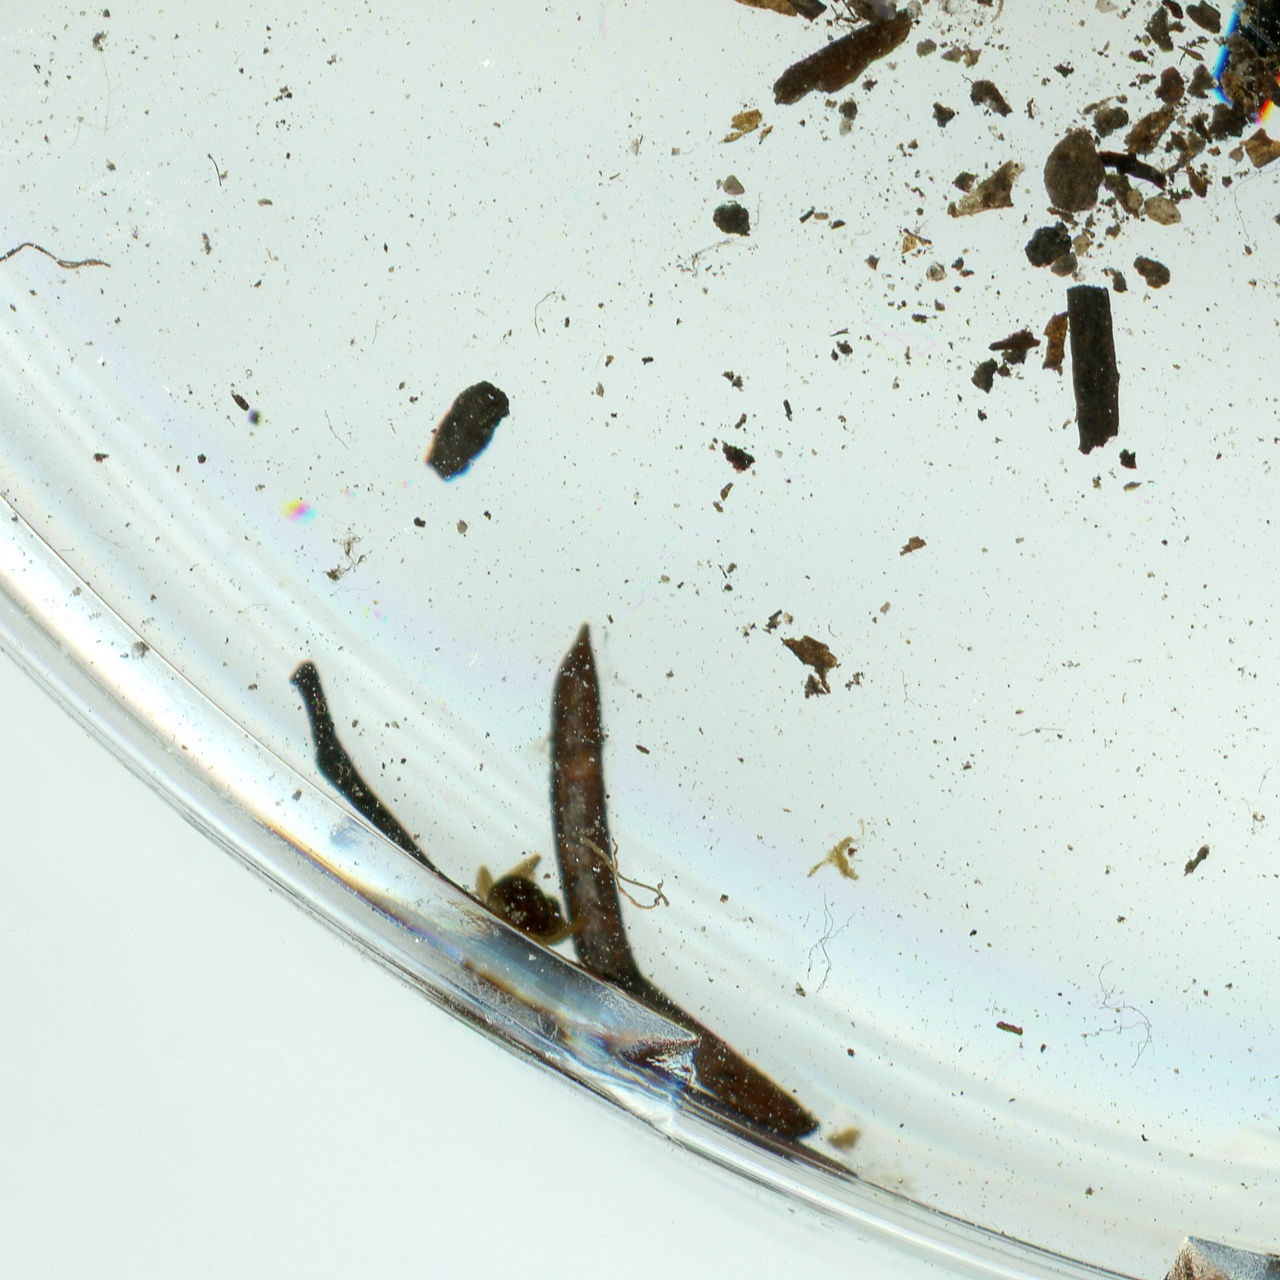arthropod: (470, 856, 592, 945)
